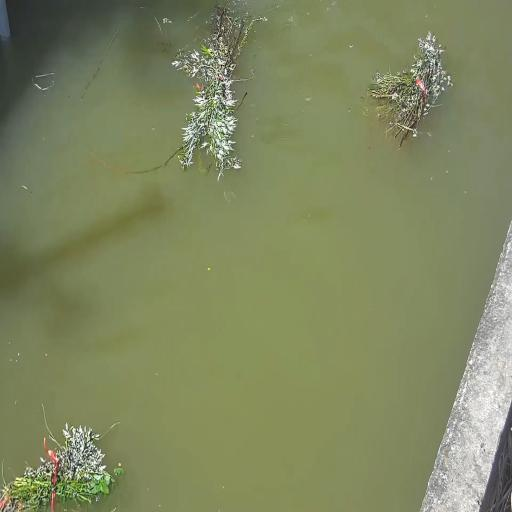twig: (172, 2, 258, 181), (0, 409, 125, 510), (365, 32, 452, 152)
